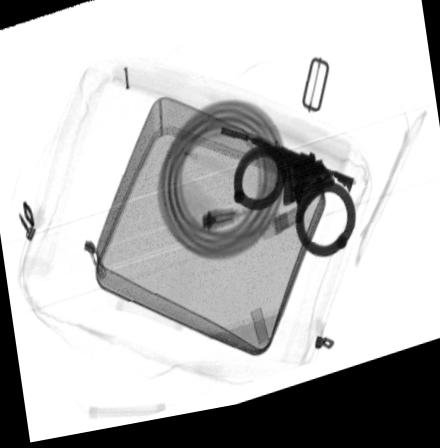Gun: (217, 136, 355, 207)
HandCuffs: (231, 152, 356, 269)
